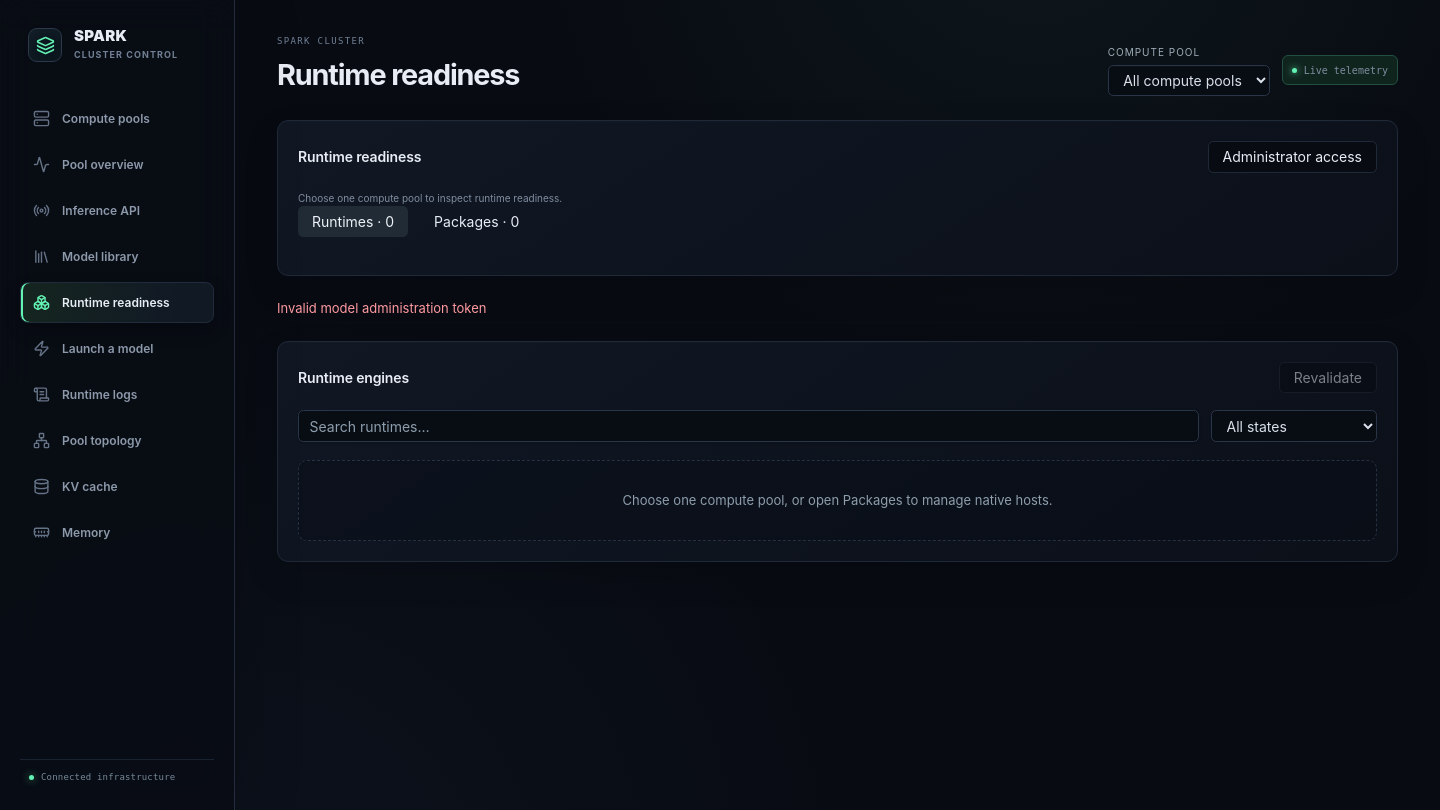
React dashboard parity › offers administrator authentication for runtime packages even without a compute pool
Click the button "Administrator access" at (1292, 157), box x1=1208 y1=141 x2=1377 y2=173
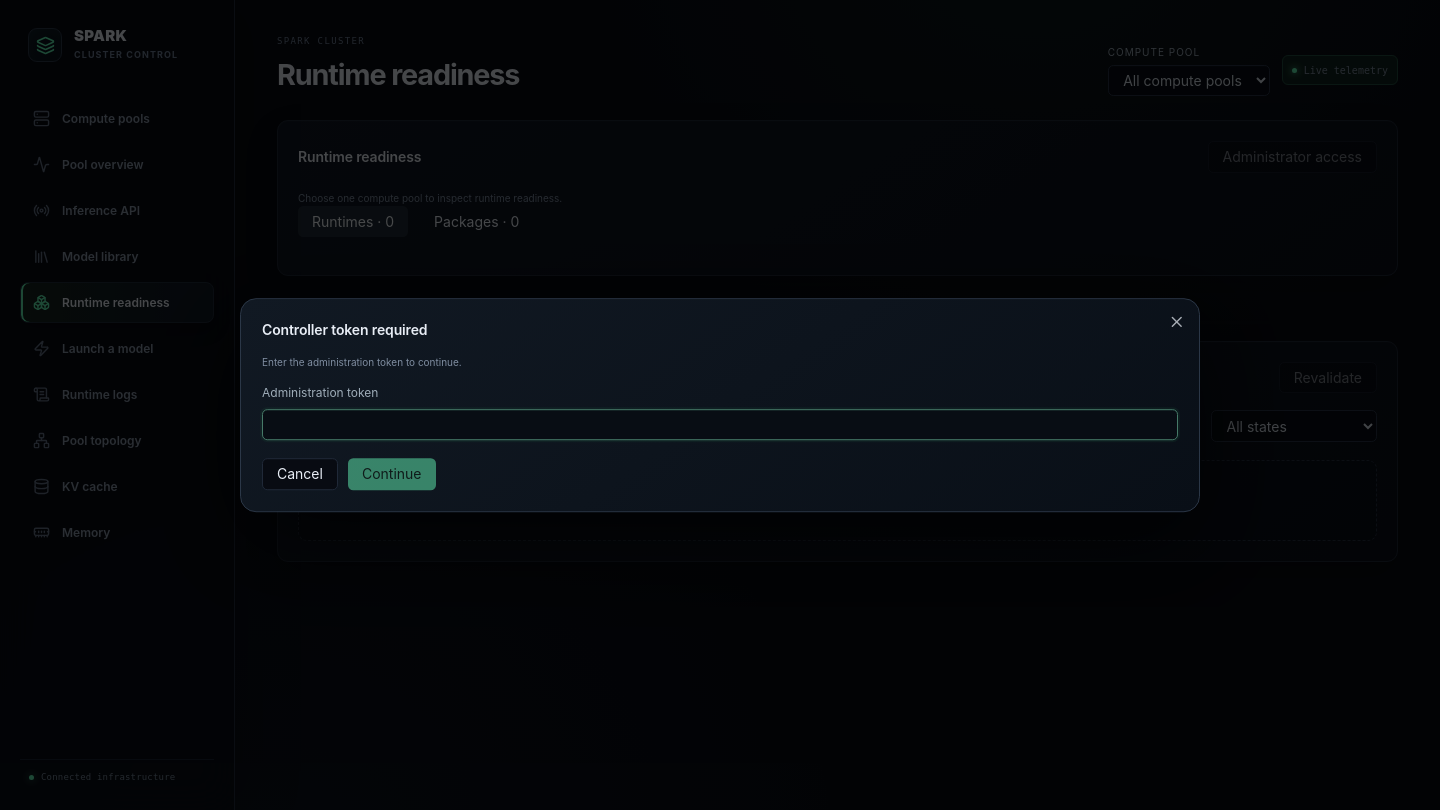
Result: the dialog shows "Controller token required" at x1=262 y1=321 x2=427 y2=338
